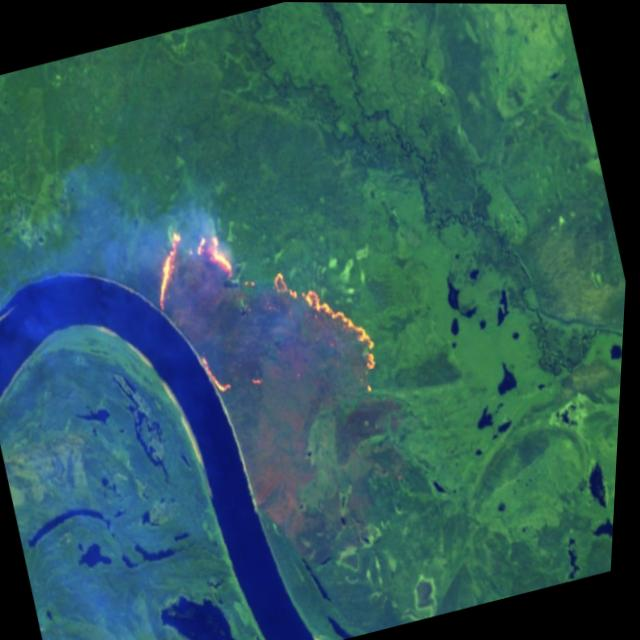fire: (123, 176, 446, 601)
